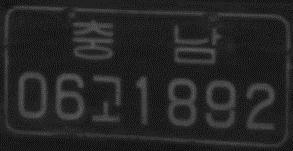0: (16, 71, 48, 121)
1: (129, 75, 160, 126)
2: (246, 82, 277, 130)
6: (54, 72, 85, 121)
8: (166, 77, 198, 127)
9: (204, 79, 236, 129)
고: (89, 74, 122, 123)
충남_D: (71, 18, 221, 65)
